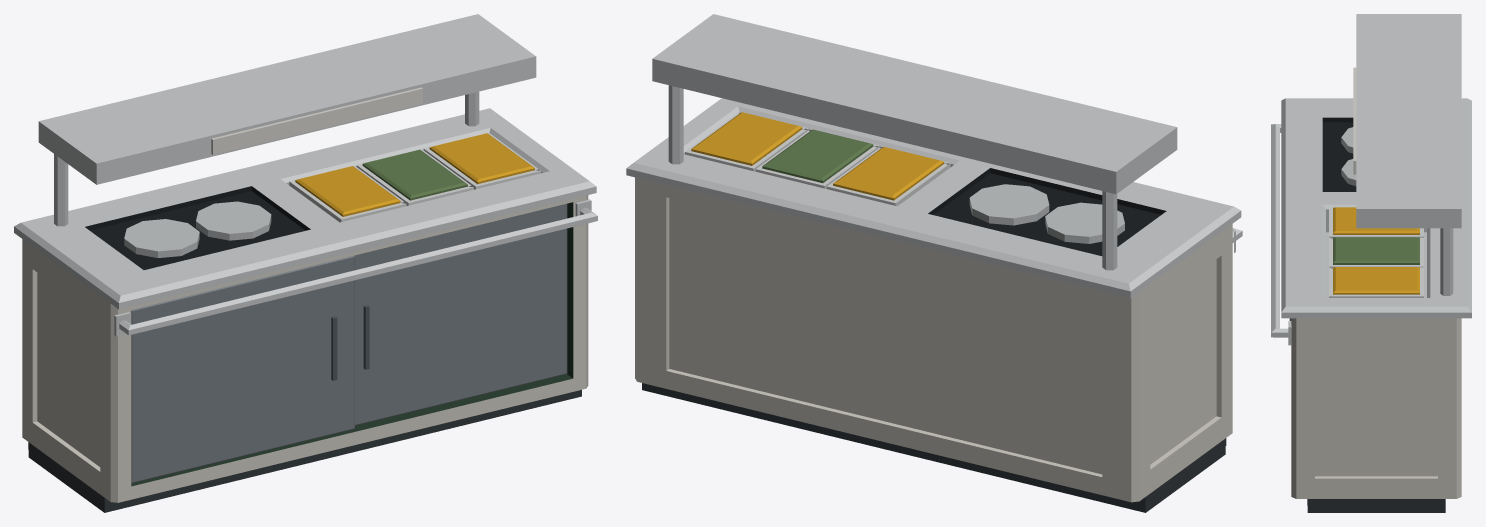
The model's file is servery-counter-3afbb9.glb.
3 views of the same model, side by side, from view 1: azimuth 30°, elevation 25°; view 2: azimuth 150°, elevation 25°; view 3: azimuth 270°, elevation 25° (orthographic). The views are drawn at different scales.
Visible parts, largest first — view 1: counter, door-l-leaf, door-r-leaf, pan-1-body, pan-3-body, pan-2-body; view 2: counter, pan-1-body, pan-2-body, pan-3-body; view 3: counter, pan-3-body, pan-2-body, pan-1-body.
Boxes of the visible parts, left/top/right/bottom form: counter: left=14, top=14, right=597, bottom=512; door-l-leaf: left=131, top=255, right=354, bottom=483; door-r-leaf: left=355, top=203, right=567, bottom=425; pan-1-body: left=289, top=165, right=406, bottom=222; pan-3-body: left=423, top=133, right=541, bottom=189; pan-2-body: left=356, top=149, right=473, bottom=205; counter: left=626, top=14, right=1242, bottom=512; pan-1-body: left=826, top=146, right=950, bottom=206; pan-2-body: left=755, top=129, right=879, bottom=188; pan-3-body: left=685, top=111, right=808, bottom=171; counter: left=1271, top=14, right=1471, bottom=512; pan-3-body: left=1329, top=267, right=1423, bottom=297; pan-2-body: left=1329, top=237, right=1423, bottom=268; pan-1-body: left=1329, top=207, right=1423, bottom=238.
Size of the model in its own units: 2 by 1.3 by 0.8.
